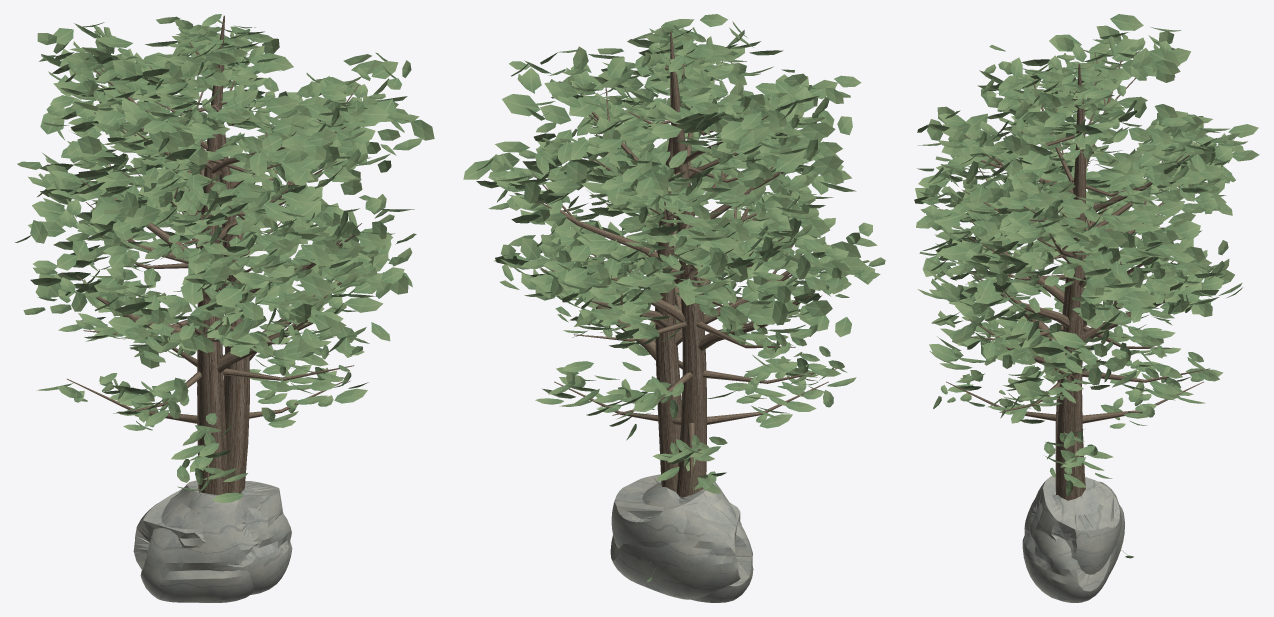
File: nature-standard-r8.glb
3 renders of one model, left to right at view 1: azimuth 30°, elevation 25°; view 2: azimuth 150°, elevation 25°; view 3: azimuth 270°, elevation 25°, orthographic. The views are drawn at different scales.
Parts seen in each view (by area): view 1: alderTall_varied_leaf_sprays, alder_varied_leaf_sprays, pine_varied_leaf_sprays, boulder_fractured_weathered_mass, pine_curved_bark, boulderLow_fractured_weathered_mass, alder_curved_bark, alderTall_curved_bark; view 2: alder_varied_leaf_sprays, alderTall_varied_leaf_sprays, pine_varied_leaf_sprays, boulderLow_fractured_weathered_mass, boulder_fractured_weathered_mass, pine_curved_bark, alder_curved_bark, alderTall_curved_bark; view 3: alder_varied_leaf_sprays, alderTall_varied_leaf_sprays, pine_varied_leaf_sprays, alder_curved_bark, boulderLow_fractured_weathered_mass, boulder_fractured_weathered_mass, pine_curved_bark, alderTall_curved_bark.
Boxes of the visible parts, bbox=[...] form: alderTall_varied_leaf_sprays: bbox=[17, 16, 391, 366]; alder_varied_leaf_sprays: bbox=[15, 52, 434, 368]; pine_varied_leaf_sprays: bbox=[37, 14, 368, 502]; boulder_fractured_weathered_mass: bbox=[140, 480, 283, 602]; pine_curved_bark: bbox=[67, 15, 354, 493]; boulderLow_fractured_weathered_mass: bbox=[133, 482, 292, 594]; alder_curved_bark: bbox=[86, 85, 361, 493]; alderTall_curved_bark: bbox=[76, 65, 336, 494]; alder_varied_leaf_sprays: bbox=[463, 46, 885, 339]; alderTall_varied_leaf_sprays: bbox=[521, 14, 867, 338]; pine_varied_leaf_sprays: bbox=[535, 26, 856, 493]; boulderLow_fractured_weathered_mass: bbox=[610, 482, 741, 599]; boulder_fractured_weathered_mass: bbox=[611, 474, 753, 602]; pine_curved_bark: bbox=[554, 31, 836, 497]; alder_curved_bark: bbox=[519, 71, 814, 491]; alderTall_curved_bark: bbox=[583, 61, 810, 490]; alder_varied_leaf_sprays: bbox=[914, 34, 1259, 403]; alderTall_varied_leaf_sprays: bbox=[916, 14, 1243, 382]; pine_varied_leaf_sprays: bbox=[933, 60, 1223, 496]; alder_curved_bark: bbox=[962, 81, 1196, 500]; boulderLow_fractured_weathered_mass: bbox=[1022, 481, 1124, 602]; boulder_fractured_weathered_mass: bbox=[1024, 475, 1121, 574]; pine_curved_bark: bbox=[946, 63, 1209, 489]; alderTall_curved_bark: bbox=[963, 52, 1194, 372].
Size of the model in its own units: 6.5 by 9.37 by 5.67.
2 materials, 2 textured.
